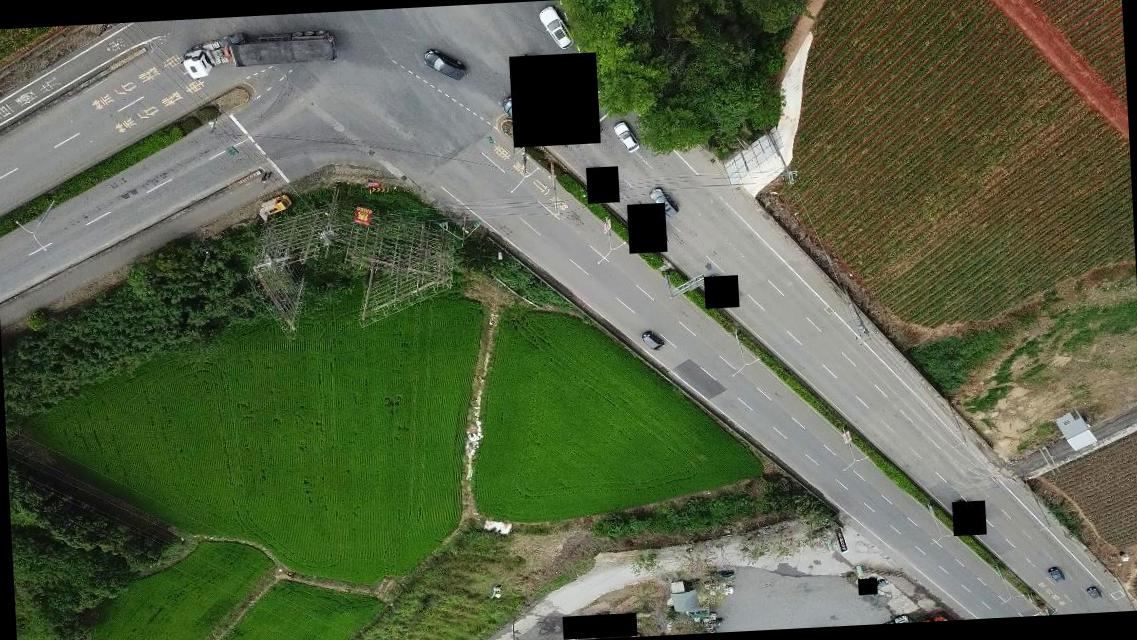vehicle: (498, 94, 545, 136), (539, 6, 573, 54), (612, 120, 640, 154), (650, 186, 677, 218), (641, 331, 666, 355), (1046, 566, 1066, 584), (1086, 586, 1102, 604)
